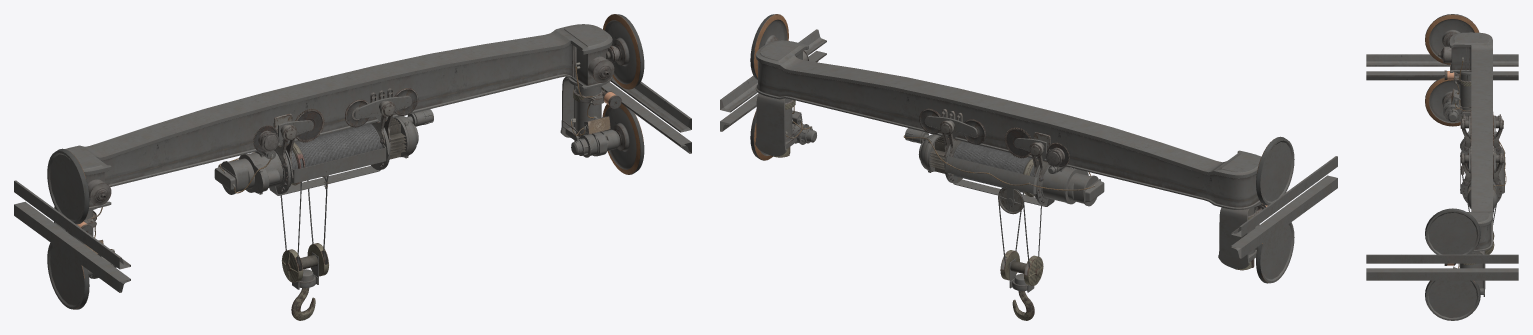
Rendered from overhead_crane.glb.
3 renders of one model, left to right at view 1: azimuth 30°, elevation 25°; view 2: azimuth 150°, elevation 25°; view 3: azimuth 270°, elevation 25°, orthographic. The views are drawn at different scales.
Visible parts, largest first — view 1: overhead_crane, overhead_crane_winch, overhead_crane_rails; view 2: overhead_crane, overhead_crane_winch, overhead_crane_rails; view 3: overhead_crane, overhead_crane_rails, overhead_crane_winch.
Boxes of the visible parts, left/top/right/bottom form: overhead_crane: left=47, top=14, right=644, bottom=309; overhead_crane_winch: left=214, top=88, right=433, bottom=320; overhead_crane_rails: left=14, top=77, right=691, bottom=292; overhead_crane: left=750, top=14, right=1294, bottom=283; overhead_crane_winch: left=903, top=108, right=1104, bottom=320; overhead_crane_rails: left=720, top=29, right=1337, bottom=258; overhead_crane: left=1425, top=14, right=1492, bottom=320; overhead_crane_rails: left=1366, top=54, right=1518, bottom=280; overhead_crane_winch: left=1460, top=112, right=1506, bottom=254.
Size of the model in its own units: 12.49 by 5.13 by 4.
Materials: 2 (2 with a texture image).
